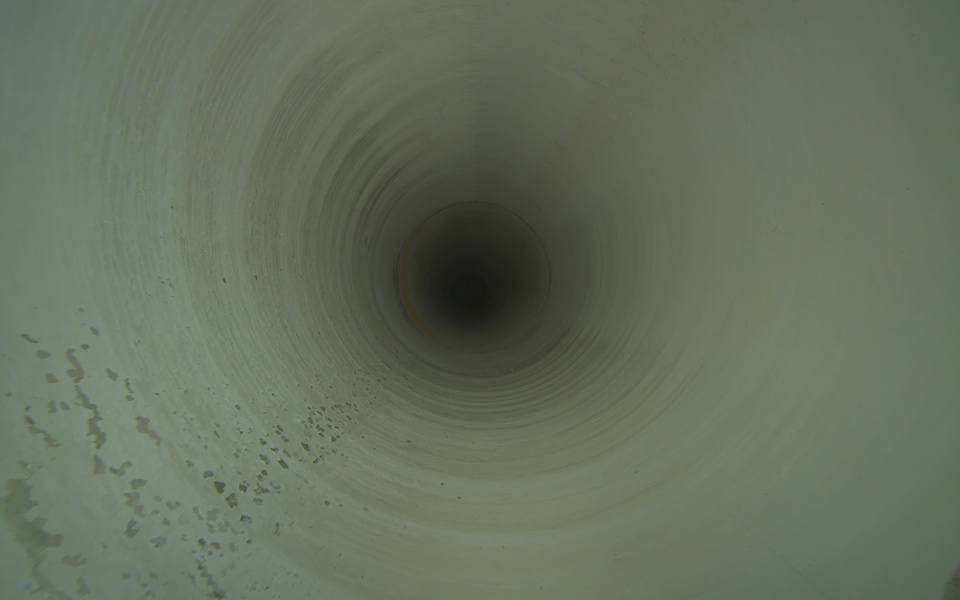circle1: (394, 198, 556, 359)
circle2: (451, 272, 484, 306)
